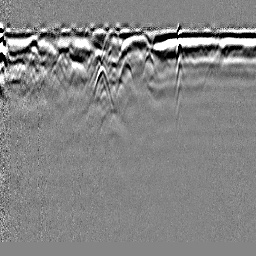cavity: (118, 50, 137, 85)
